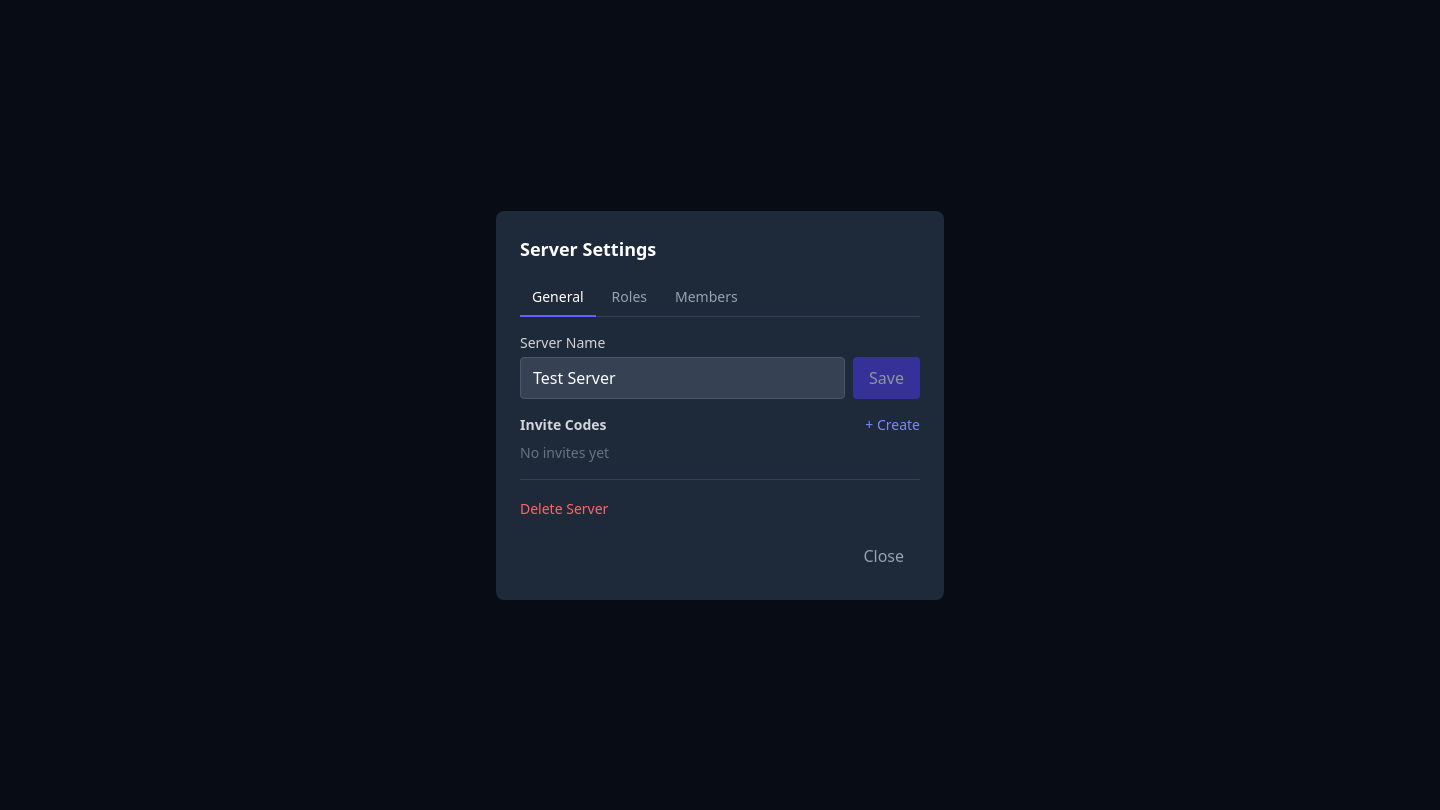
Scenario: ServerSettings › shows invite code after creation
The image size is (1440, 810).
Click the button "+ Create". click: point(893, 424)
box: [865,414,920,434]
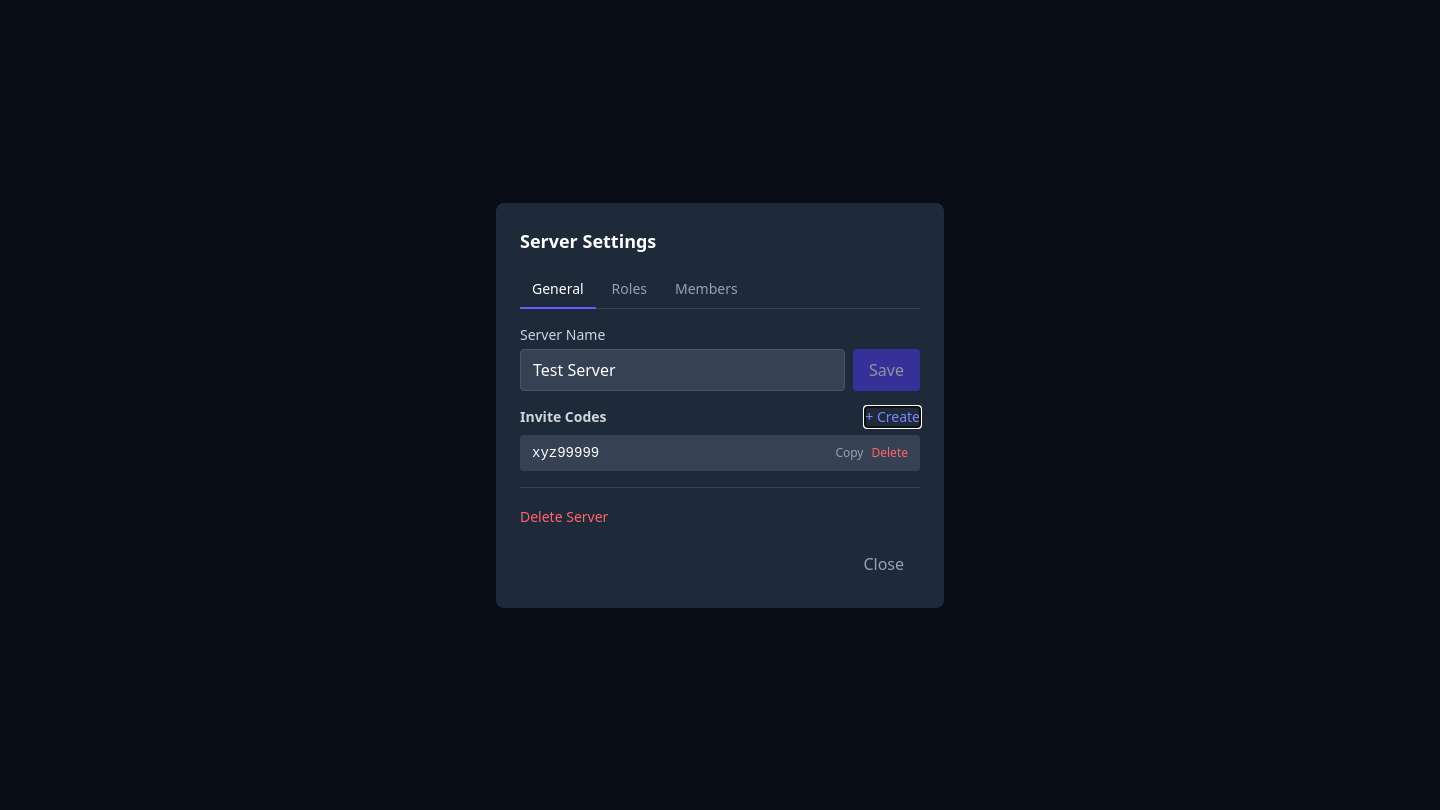
Expected: the text "xyz99999" is shown, [532,442,599,462]
